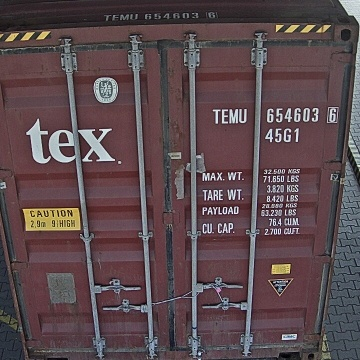serial_id: (212, 107, 338, 123)
